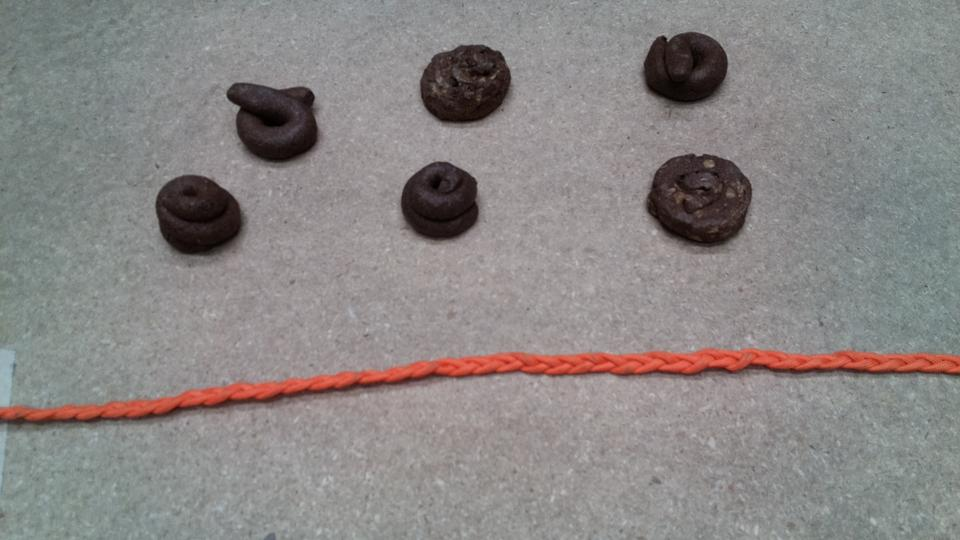poop: (644, 150, 760, 251), (224, 66, 328, 171), (151, 171, 260, 259), (416, 38, 514, 127), (399, 158, 485, 243), (640, 30, 731, 105)
rope: (414, 328, 960, 393), (221, 360, 469, 436), (1, 383, 234, 424)
